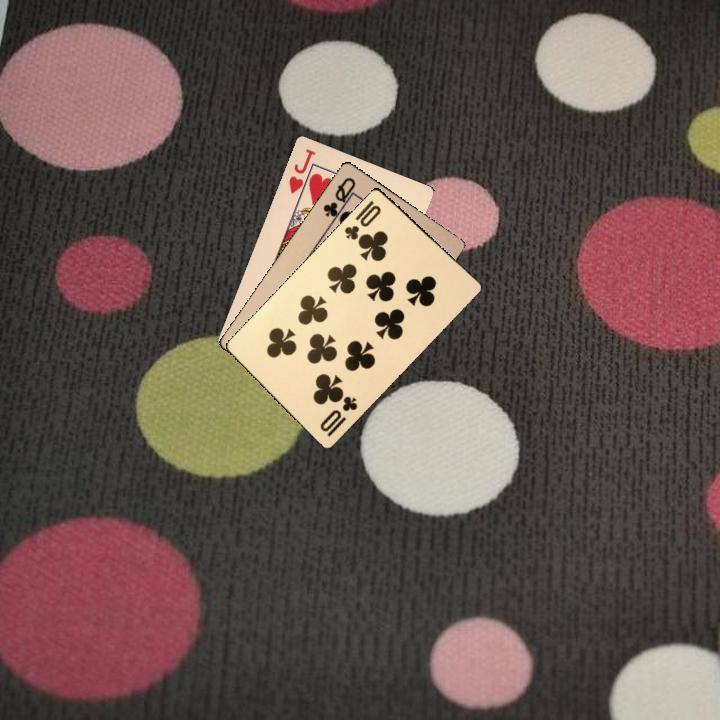10c: (340, 196, 384, 246), (316, 392, 360, 439)
Jh: (285, 144, 318, 201)
Qc: (319, 173, 358, 225)
